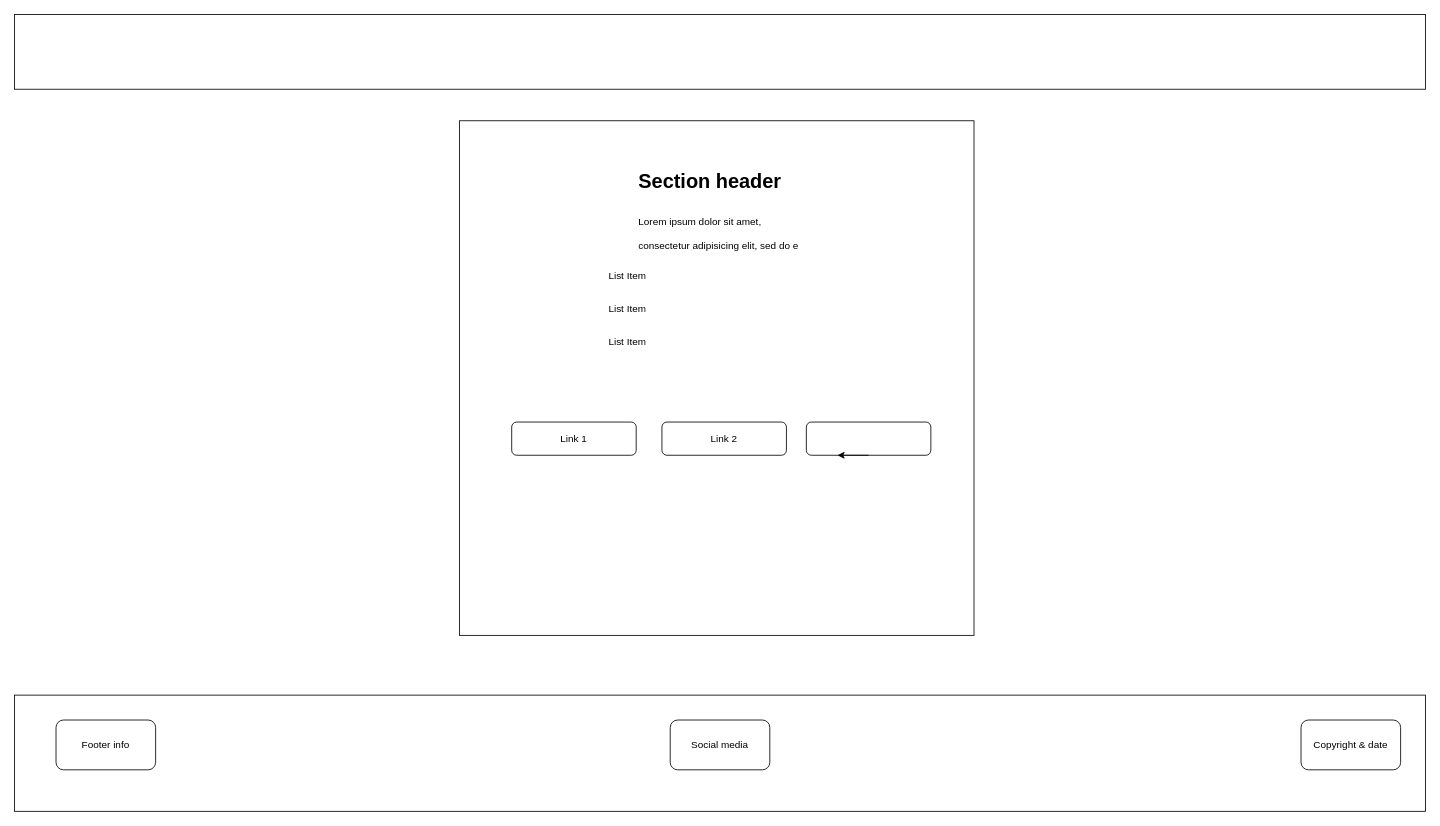
Some shapes in this 1440 by 826 pixel diagram are drawn without their labels. The shapes that lost their labels are listed below. From the top down, each one's centre as x and y in pixels, then its label:
At [720,51]: "Title".
At [868,438]: "Link 3".
